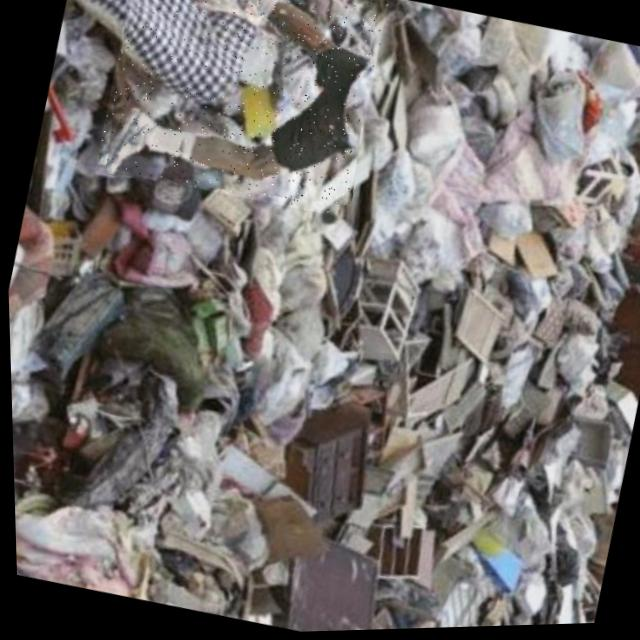Person in Rubble: (89, 0, 393, 225)
